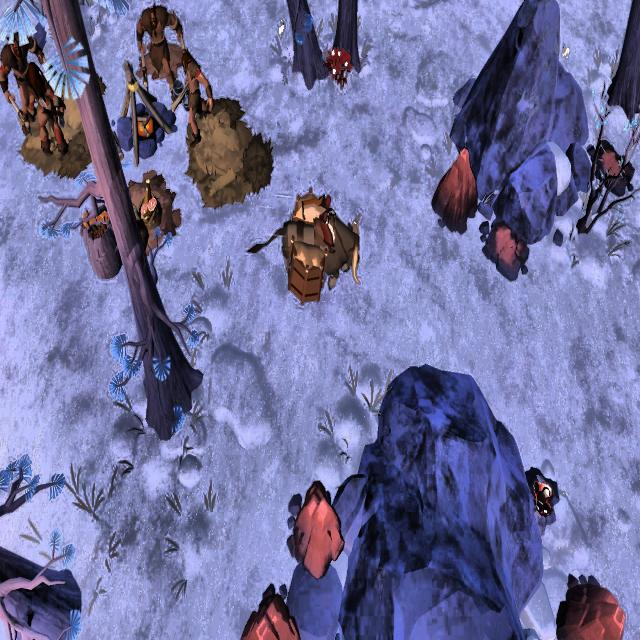enemy_factionKeeper: (0, 27, 51, 122), (174, 55, 217, 152), (28, 66, 67, 158), (138, 1, 182, 77)
fiber_t5: (325, 46, 354, 88)
rock_t5: (286, 470, 344, 578), (428, 149, 480, 238), (555, 576, 626, 640), (238, 587, 296, 640)
